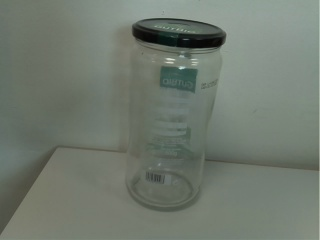pote cristal: (124, 16, 228, 214)
